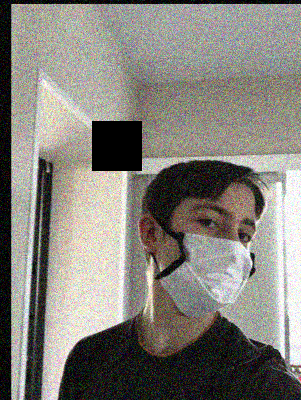with_mask: (156, 199, 256, 317)
